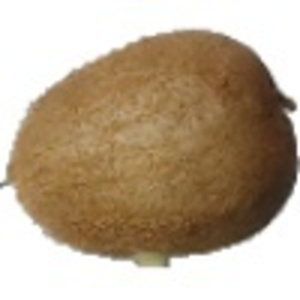kiwi: (3, 27, 300, 274)
